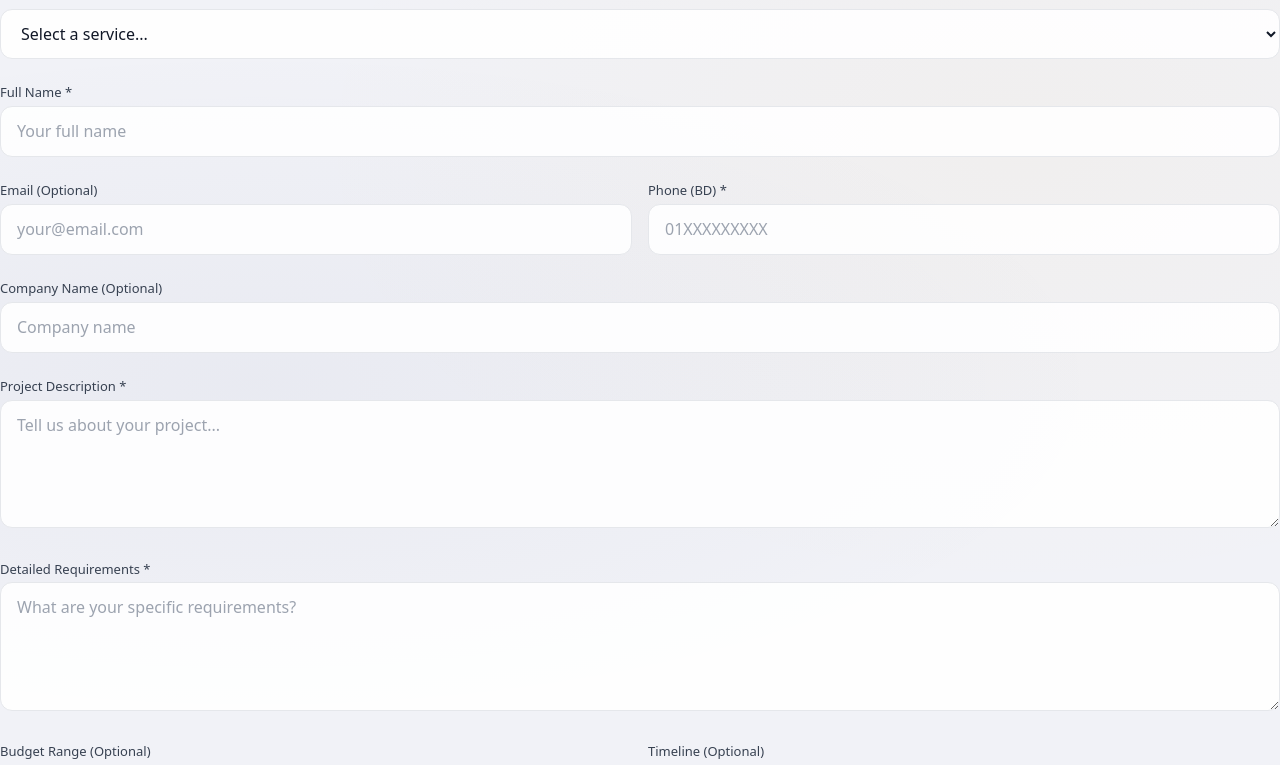
Test: Lead Form › should show queued message for offline lead submissions
The image size is (1280, 765).
Select "Custom Software Development" in the dropdown below "What service do you need? *": (640, 34) [0,9,1279,59]
In the field with placeholder "Your full name": (640, 132) [0,106,1279,157], type "Jane Smith"
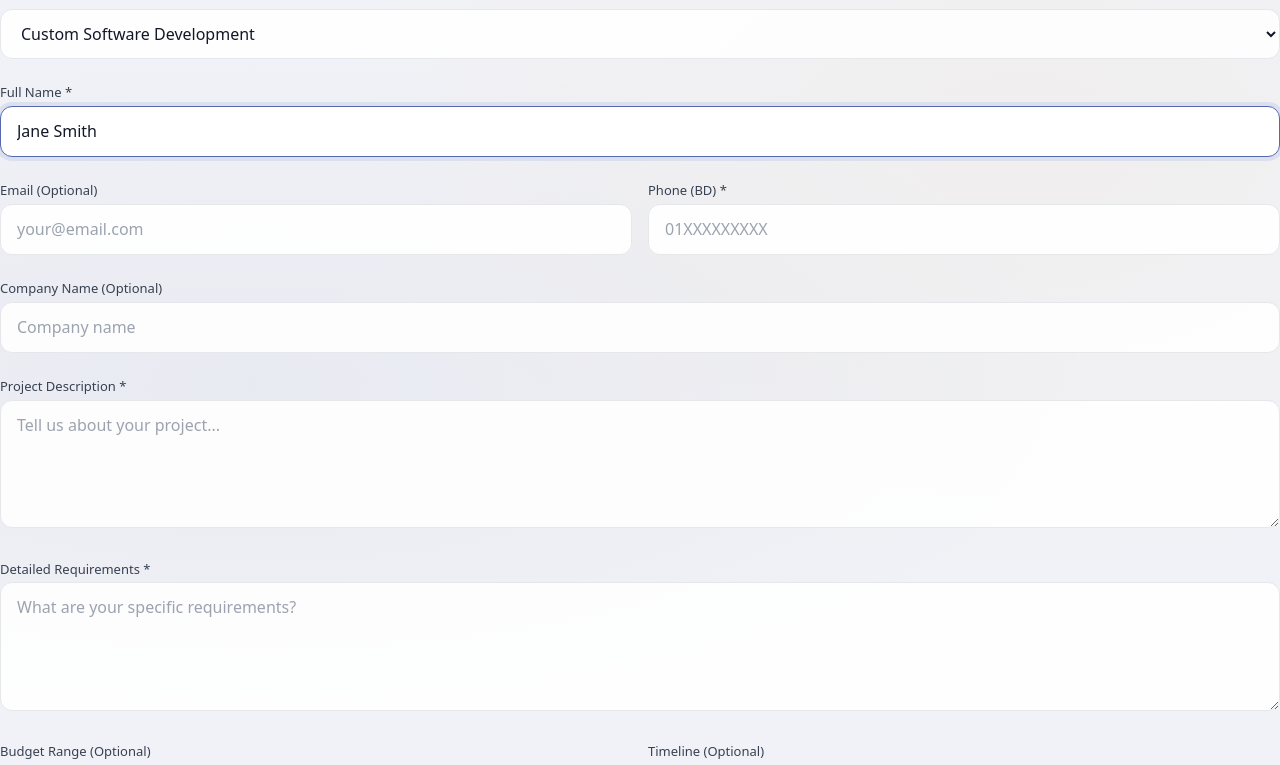
In the field with placeholder "your@email.com": (316, 230) [0,204,632,255], type "jane@example.com"
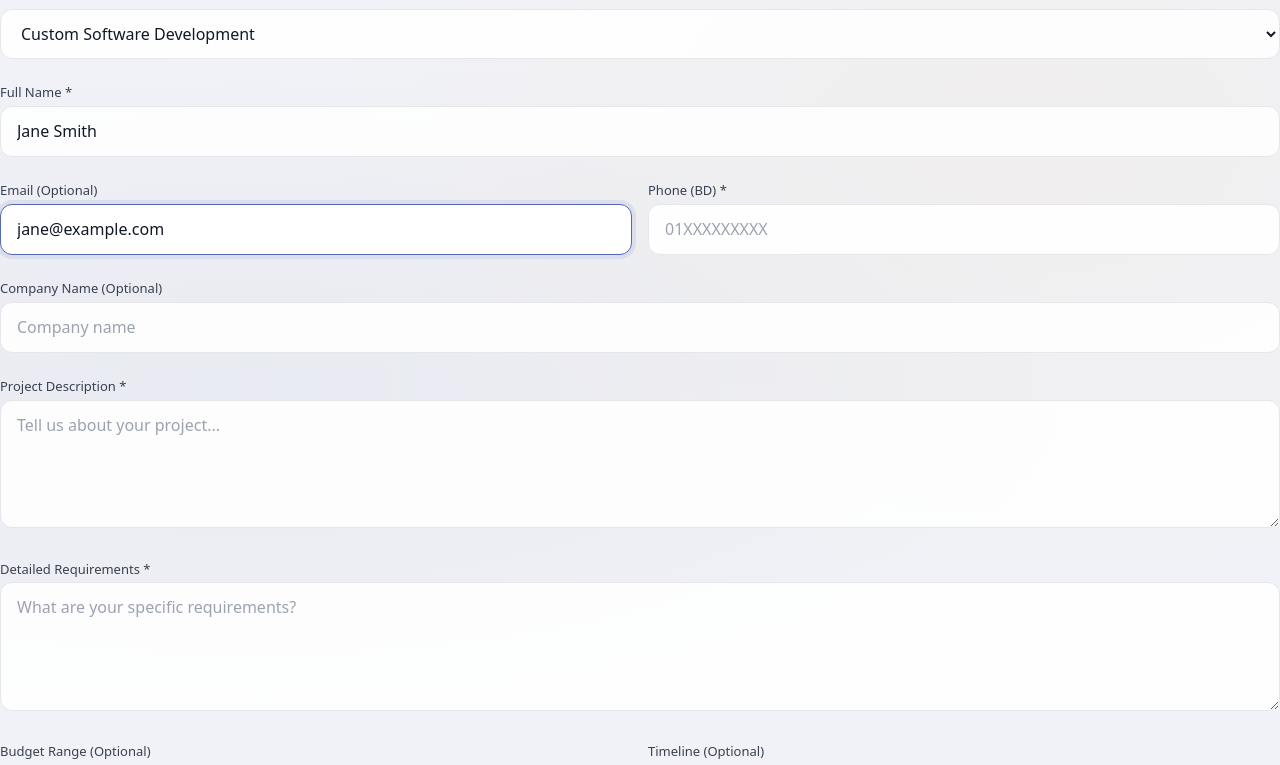
In the field with placeholder "01XXXXXXXXX": (964, 230) [648,204,1279,255], type "01912345678"
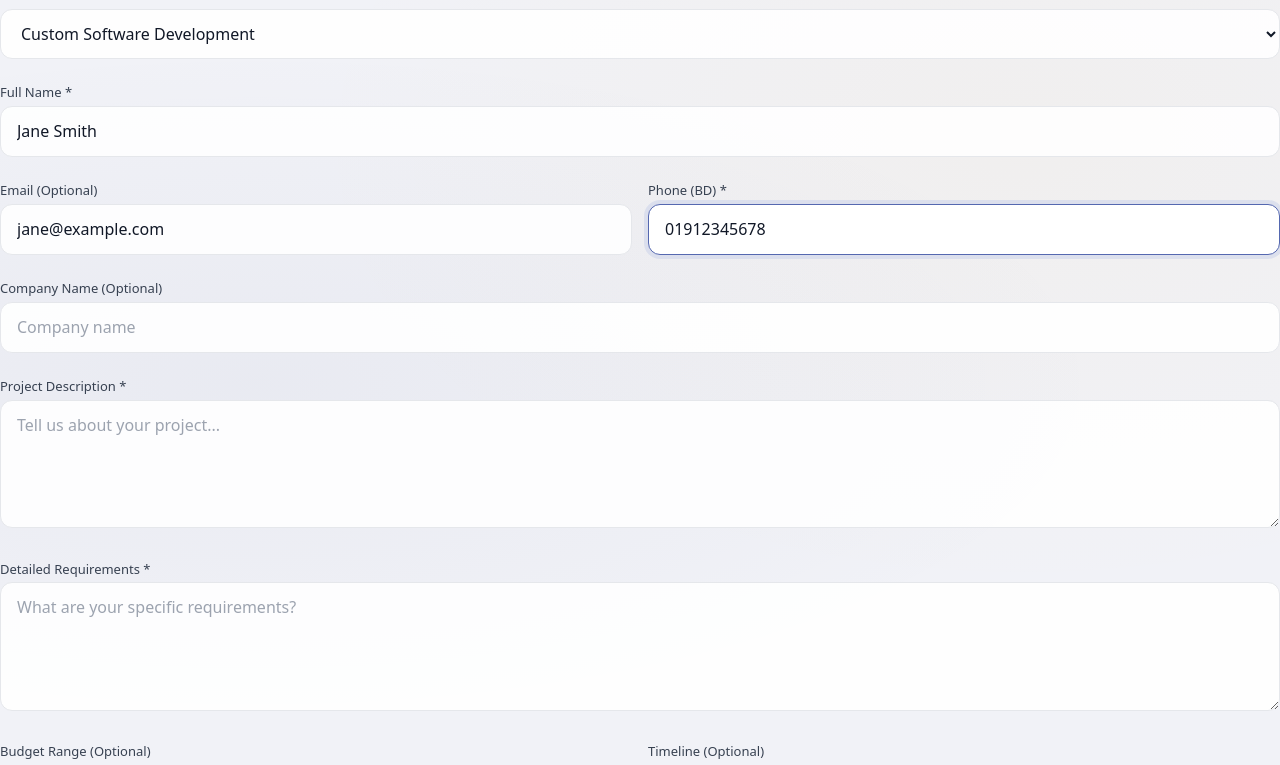
In the text box with placeholder "Tell us about your project...": (640, 464) [0,400,1279,528], type "We need a custom CRM system with integration capabilities"
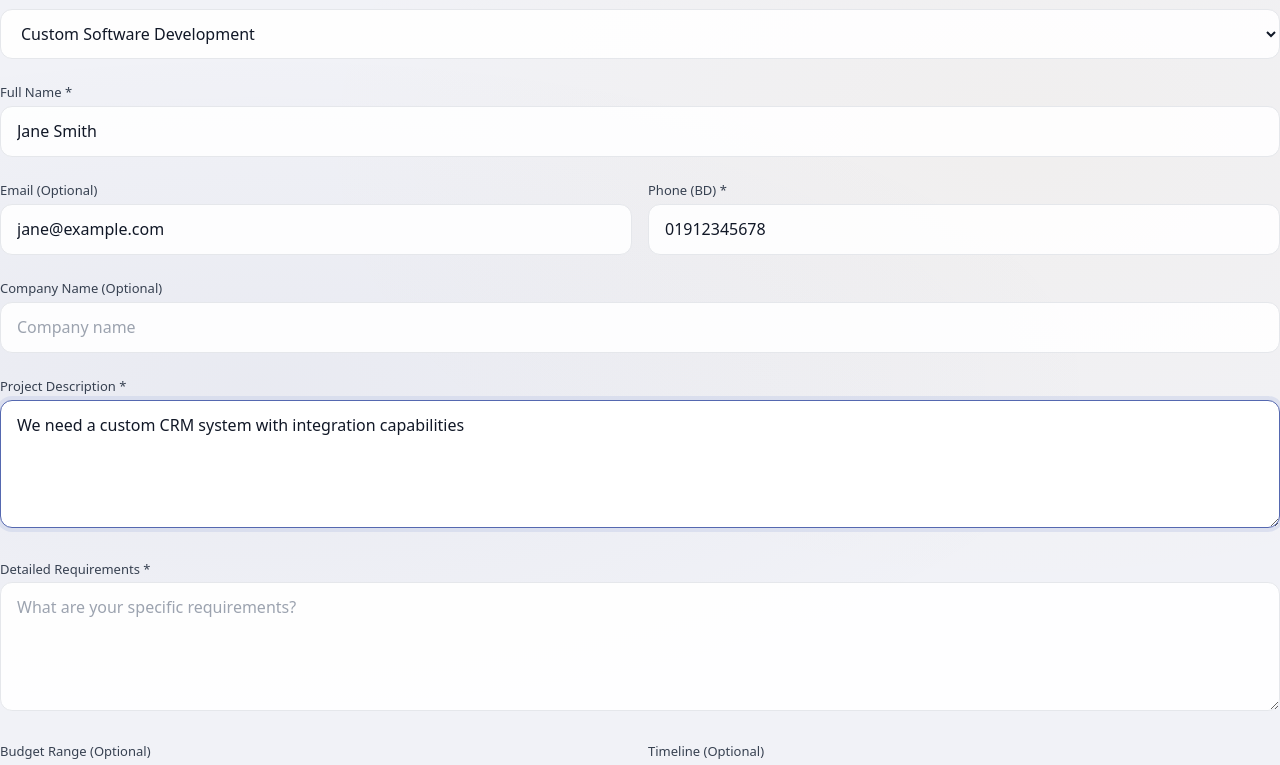
In the text box with placeholder "What are your specific requirements?": (640, 646) [0,582,1279,711], type "Multi-user support, real-time notifications, and mobile compatibility required"
(page scrolled)
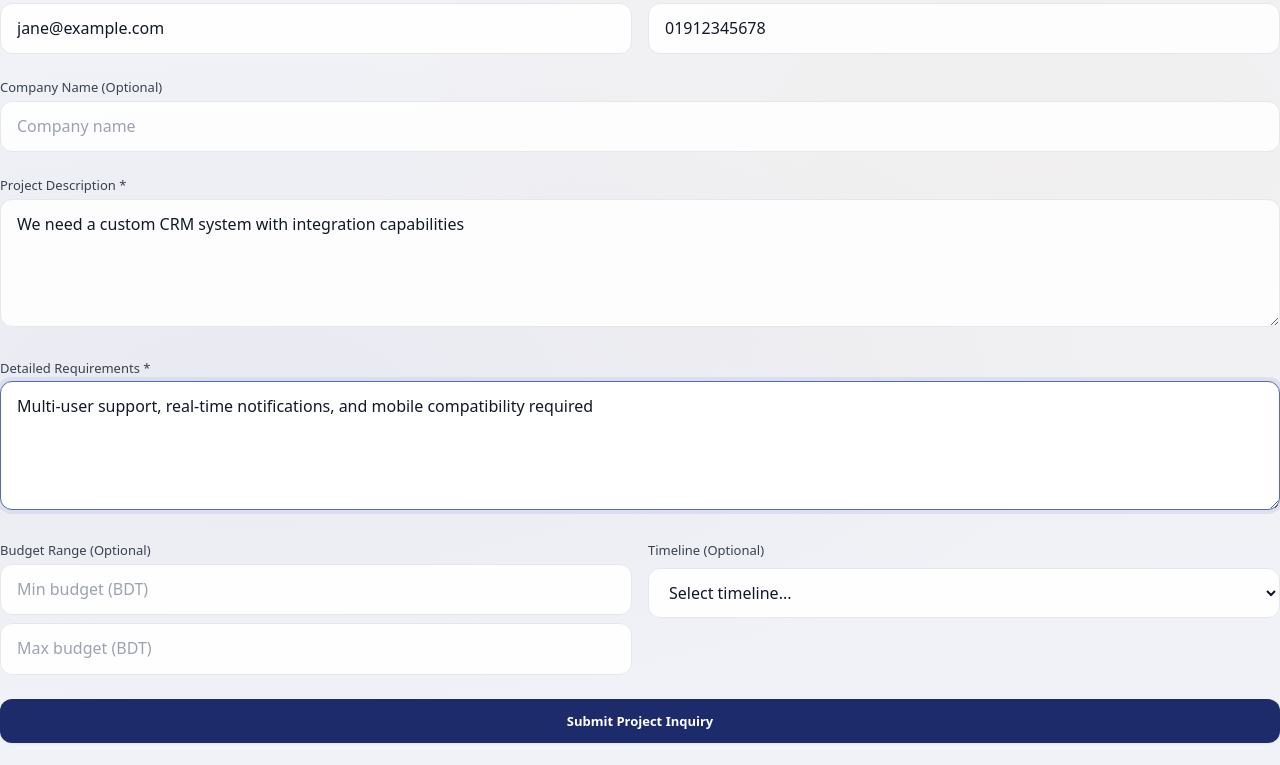
Click the button "Submit Project Inquiry": click(640, 721) [0,699,1279,743]
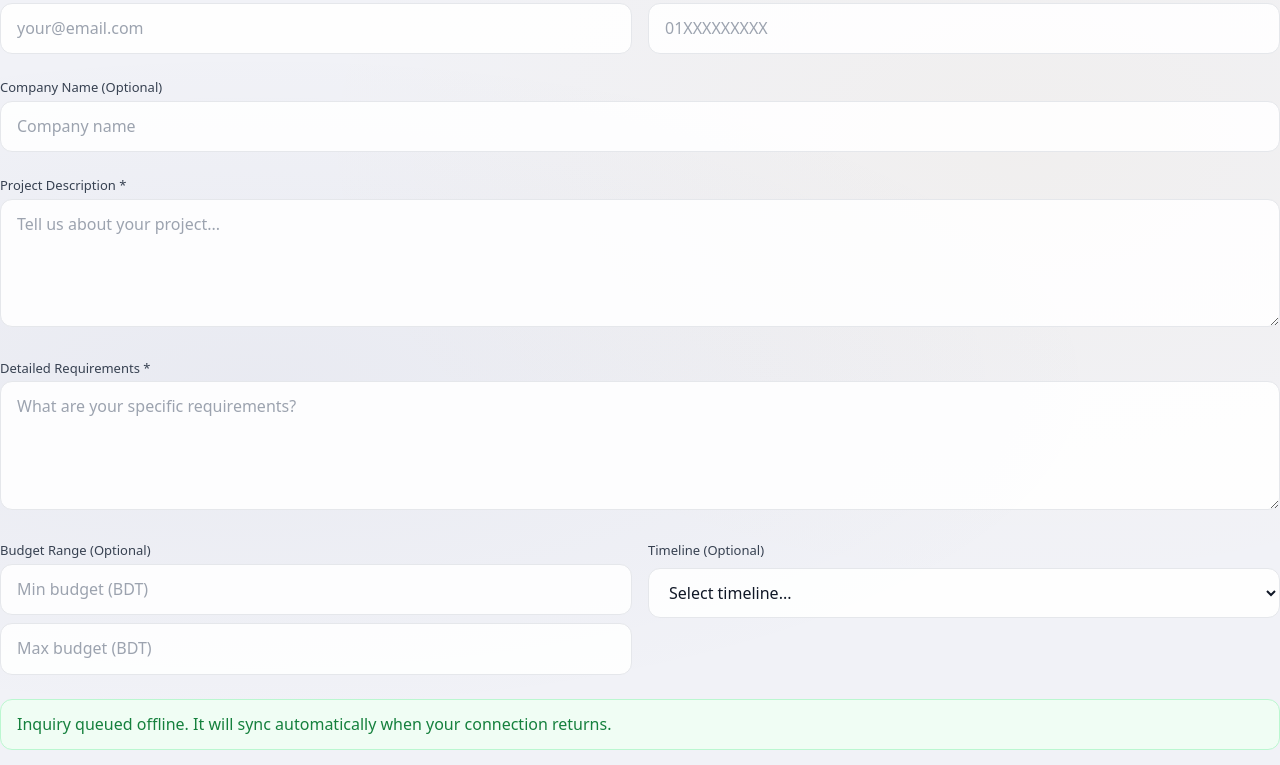
Expected: the text "queued offline" is shown, [17,713,611,735]
